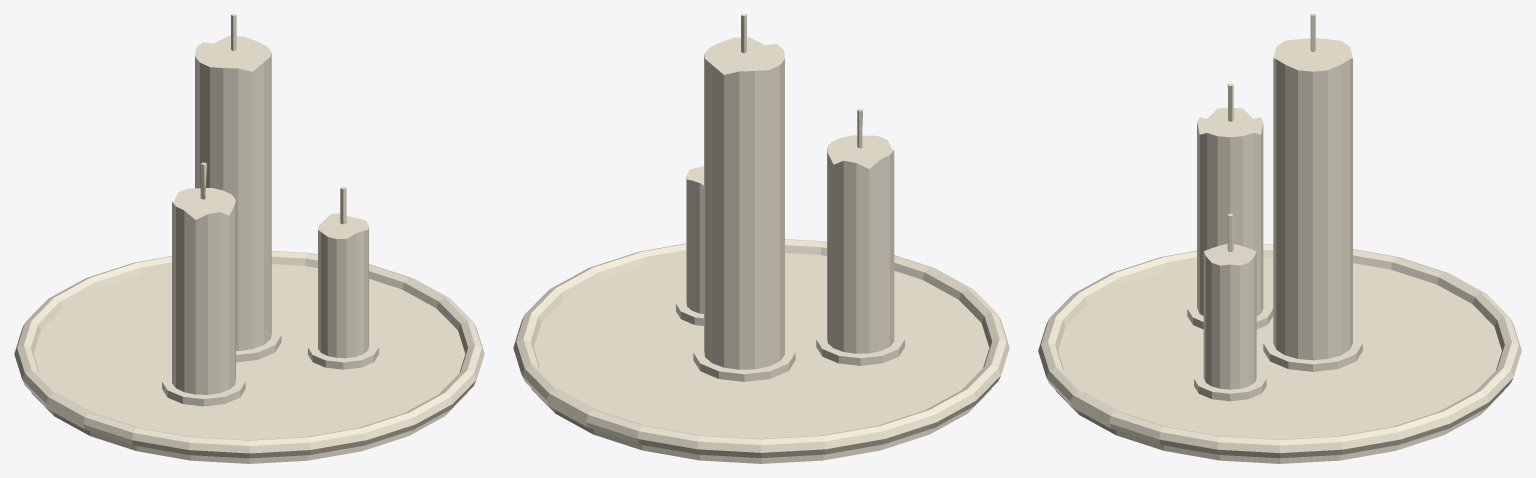
File: candle_group.glb
3 views of the same model, side by side, from view 1: azimuth 30°, elevation 25°; view 2: azimuth 150°, elevation 25°; view 3: azimuth 270°, elevation 25° (orthographic). The views are drawn at different scales.
Parts seen in each view (by area): view 1: candle_group; view 2: candle_group; view 3: candle_group.
Boxes of the visible parts, x1,y1,x2,y2 form: candle_group: (14, 14, 484, 463); candle_group: (513, 14, 1009, 463); candle_group: (1038, 14, 1521, 463).
Bounding box in the file's own units: 0.146 × 0.117 × 0.146.
